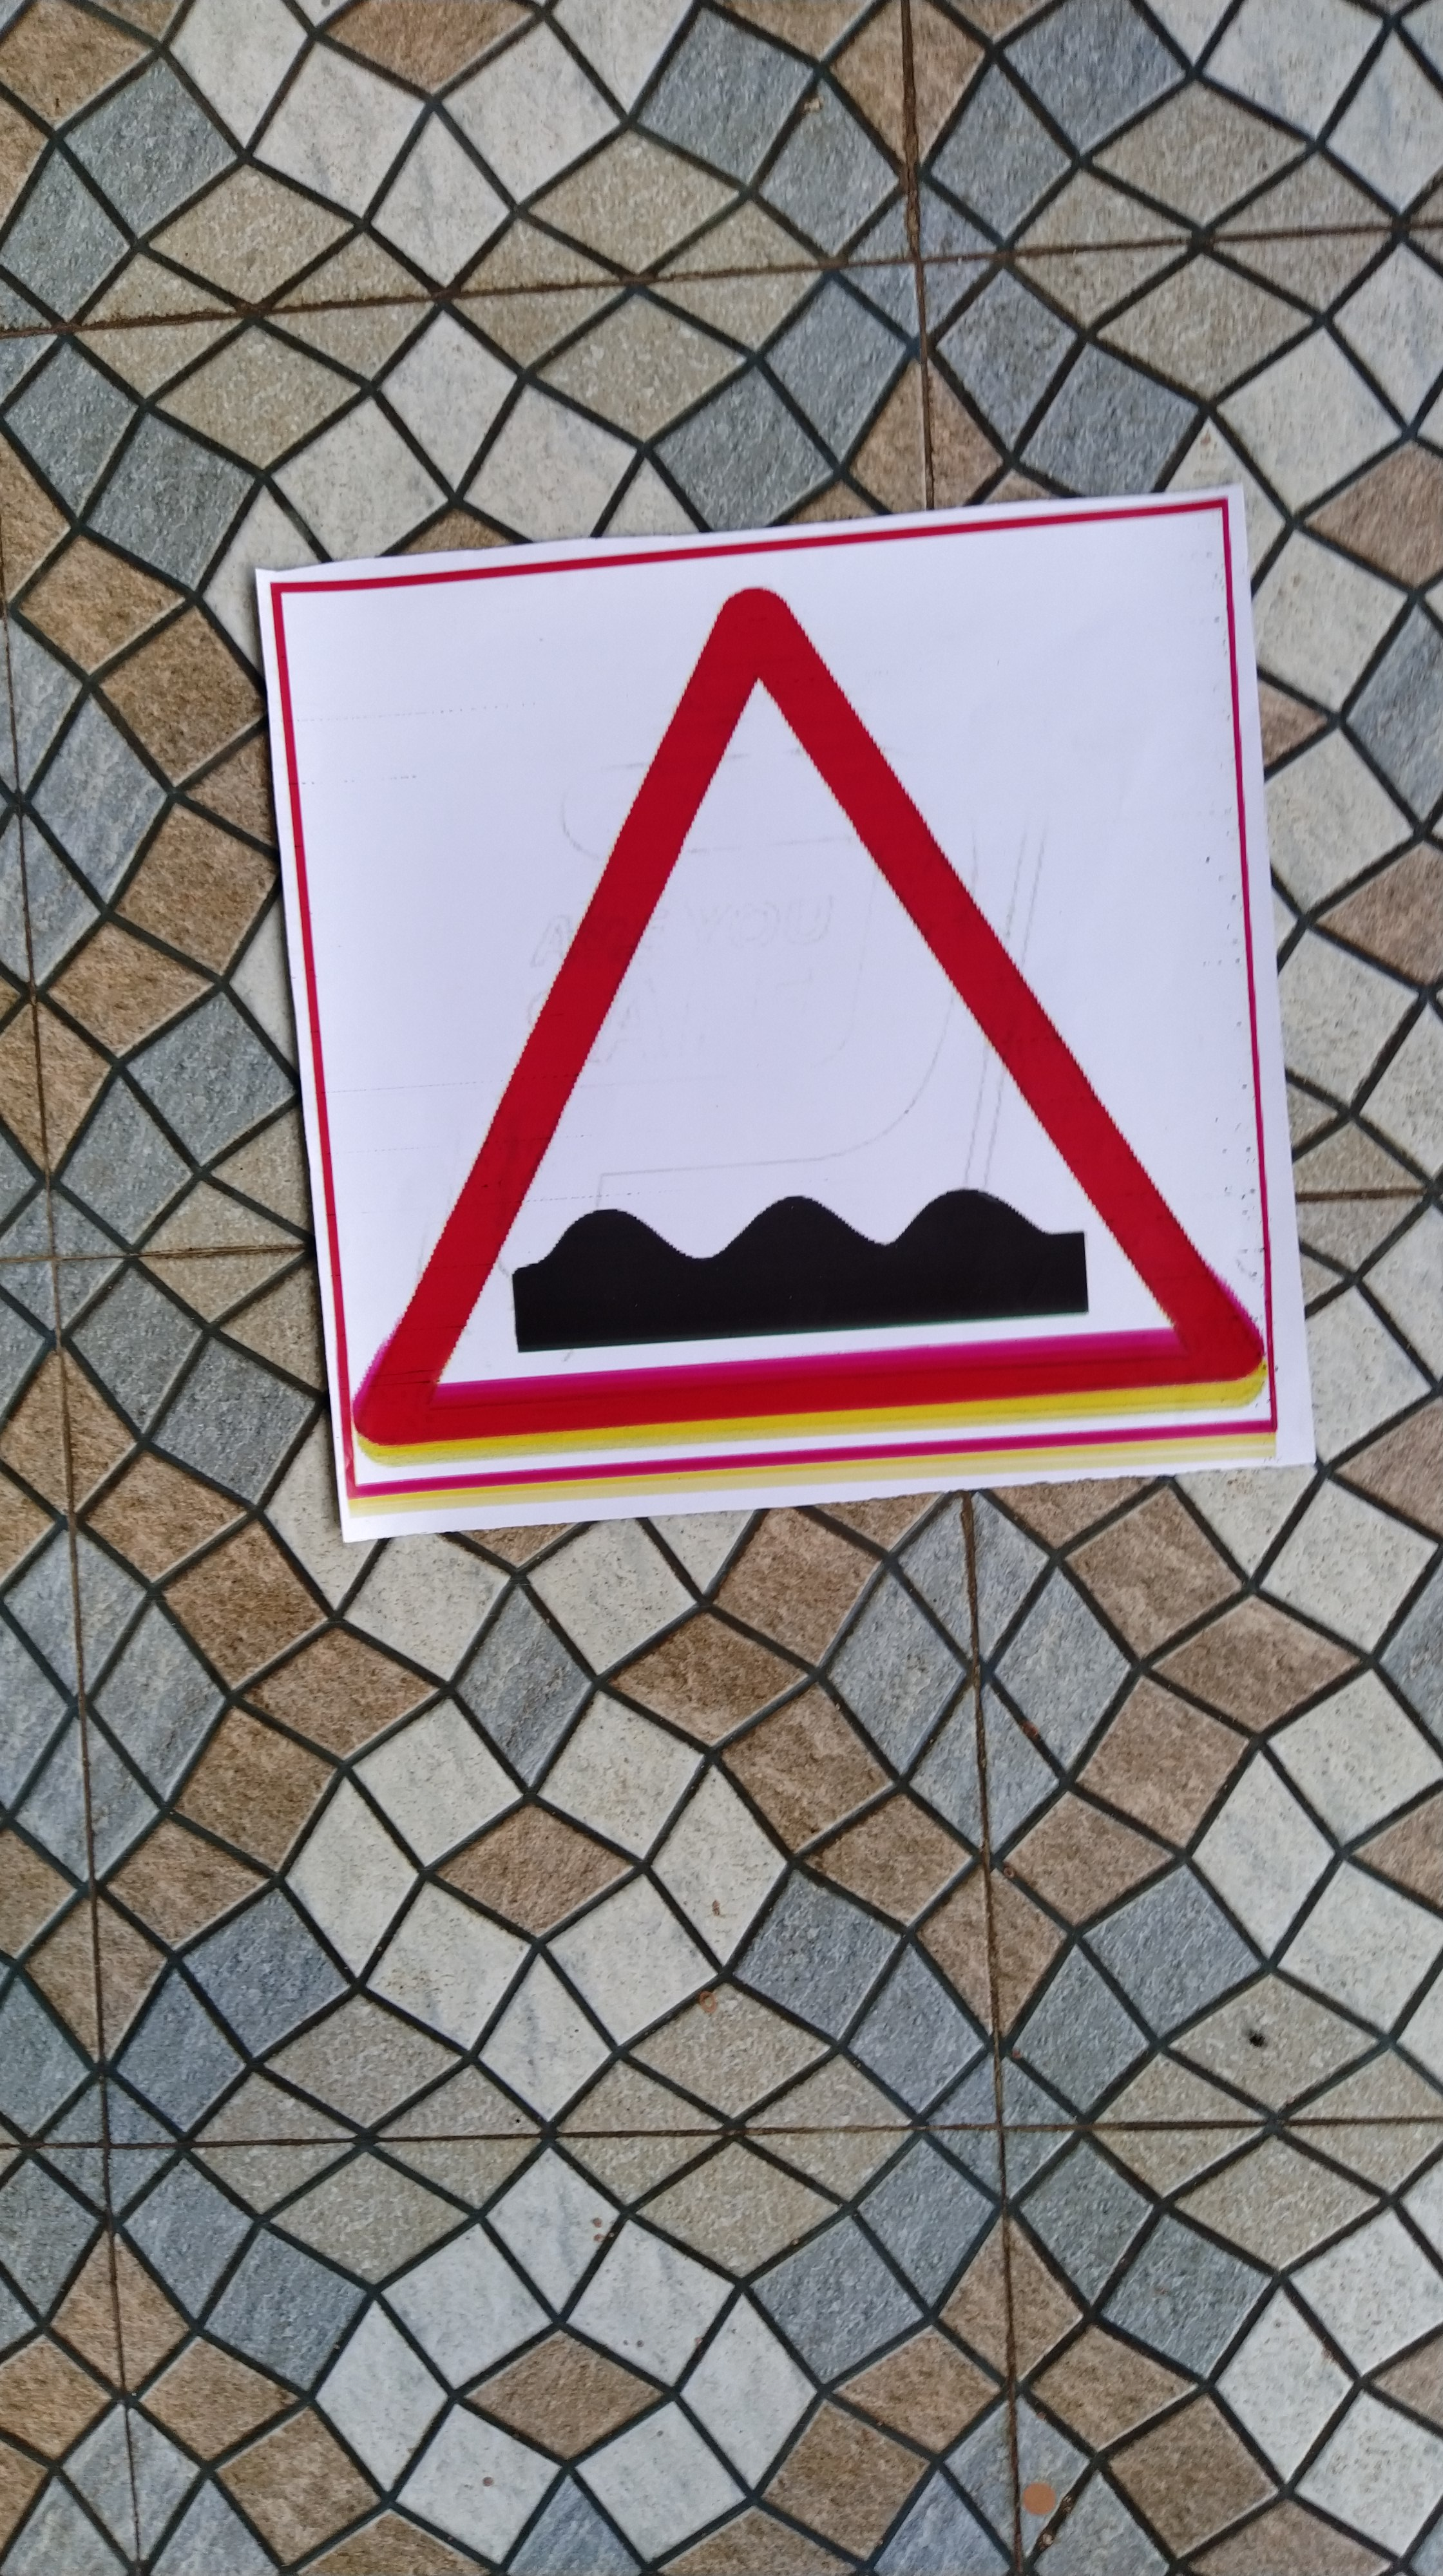speed breaker: (312, 579, 1323, 1507)
